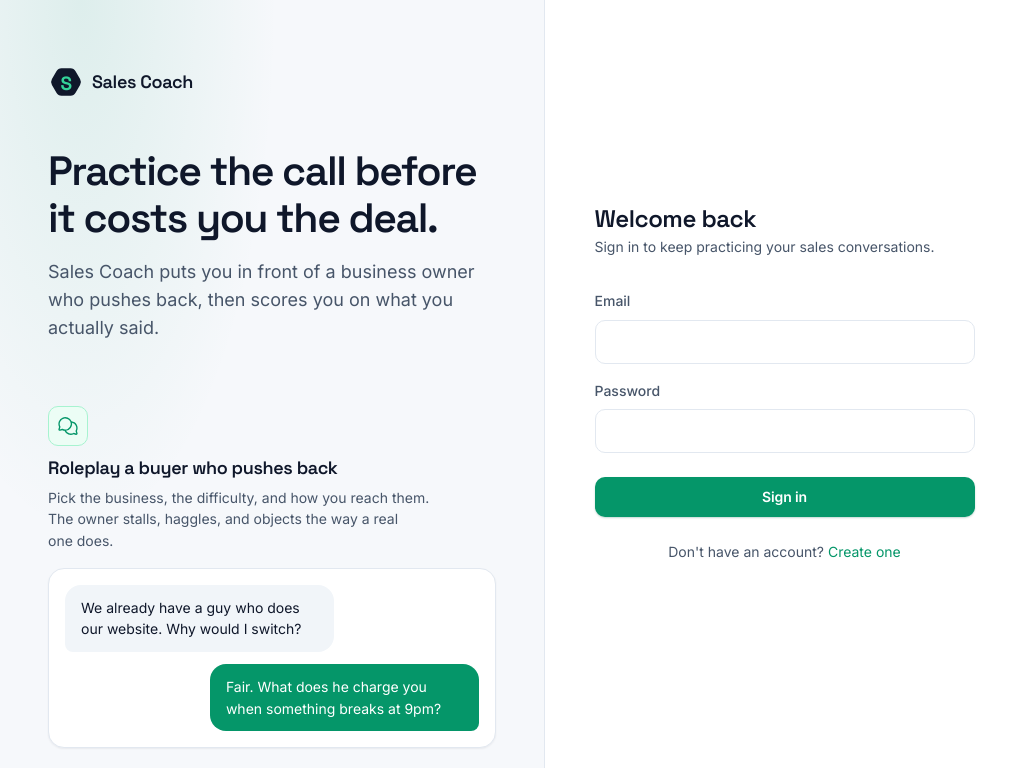
Test: Login page › shows an error message when signIn fails
Type "user@test.com" into the field labelled "Email" at x=784, y=342, box top-left (594, 320), bottom-right (974, 364)
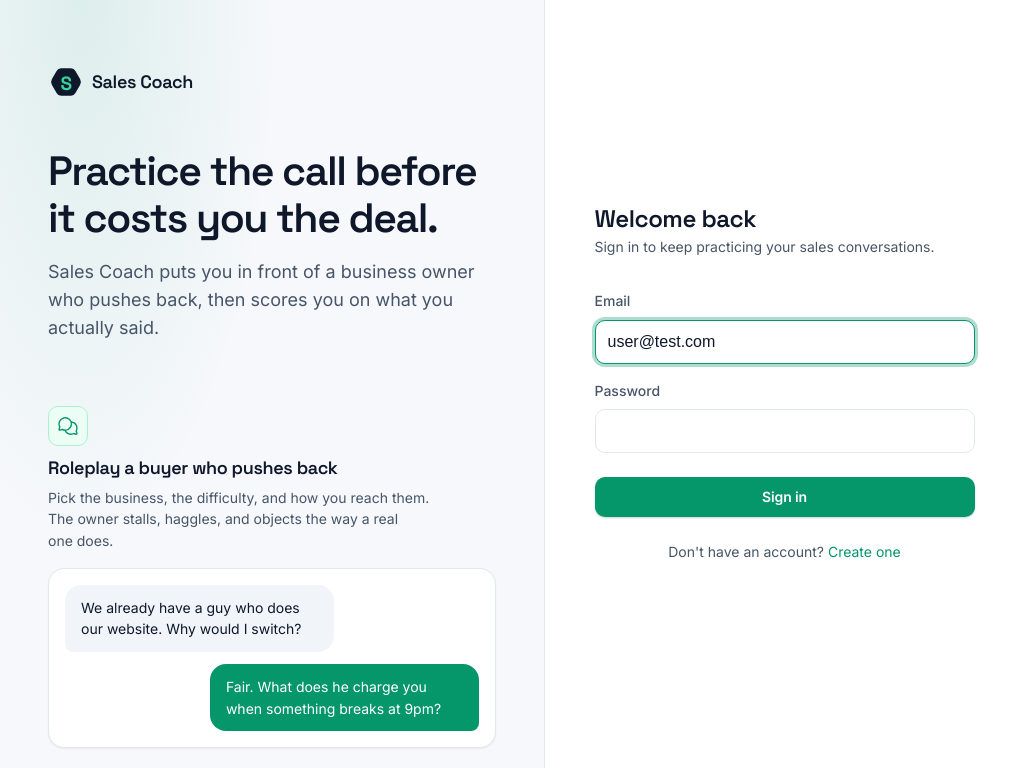
Type "wrong" into the password field labelled "Password" at x=784, y=432, box top-left (594, 410), bottom-right (974, 454)
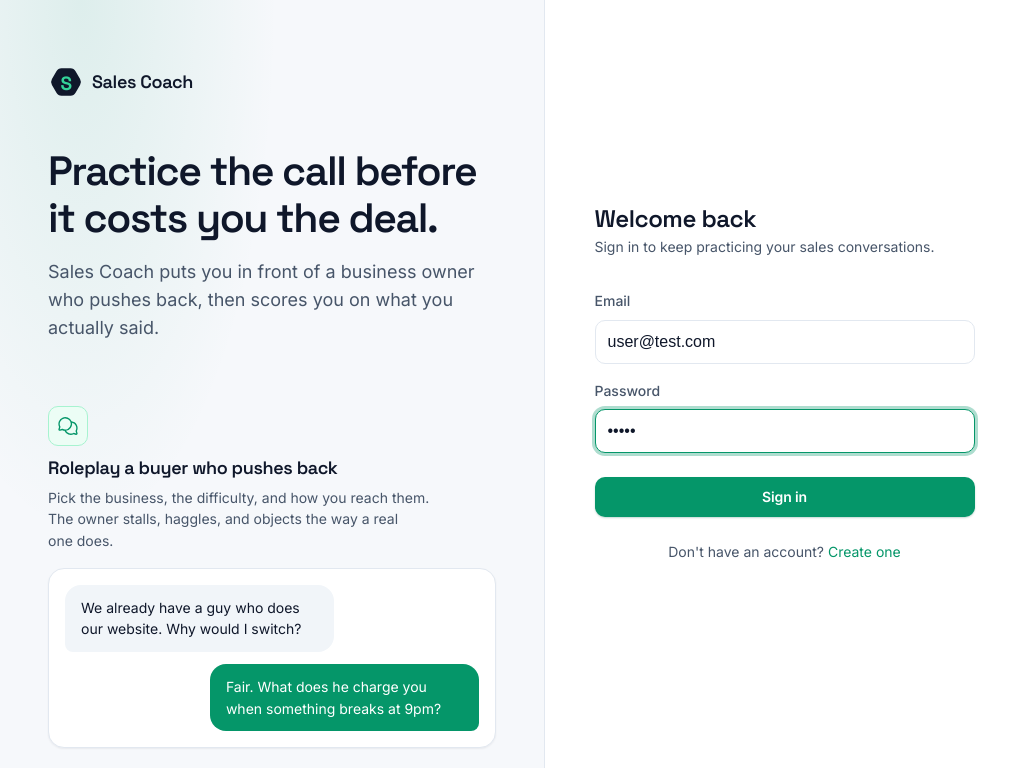
Click the button "Sign in" at x=784, y=498, box top-left (594, 478), bottom-right (974, 518)
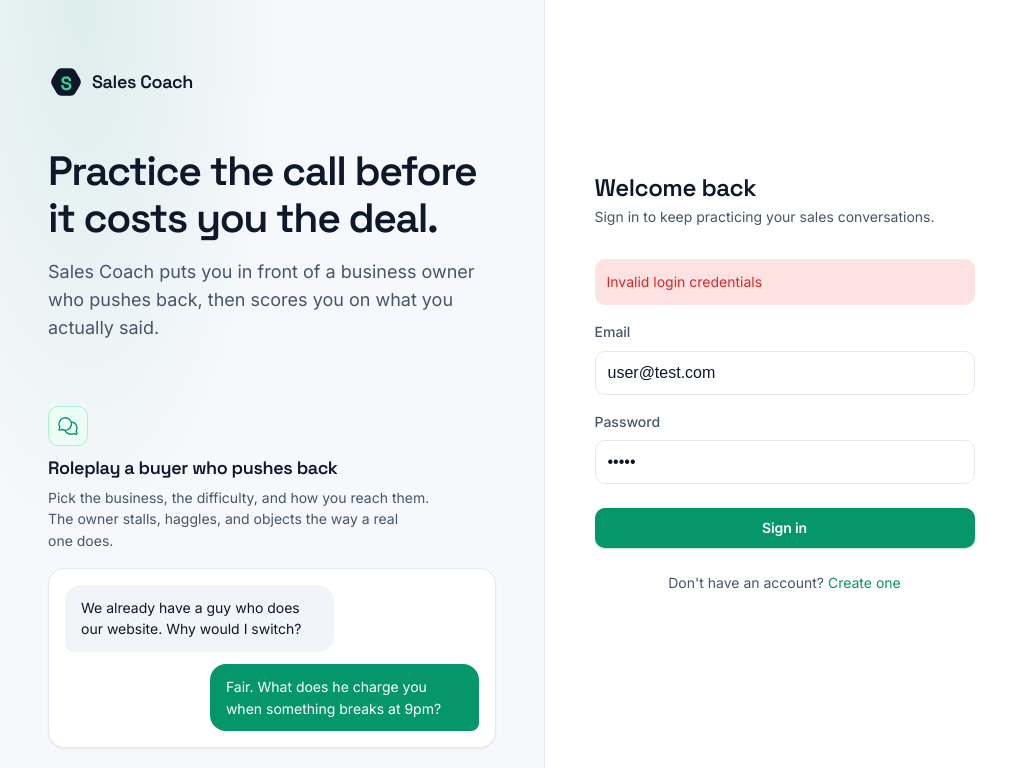
Check: the message reads "Invalid login credentials", box top-left (606, 273), bottom-right (762, 290)
